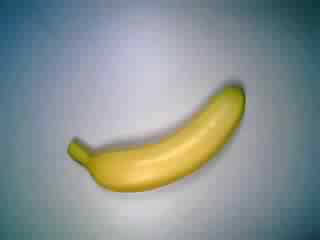banana: (69, 83, 251, 191)
